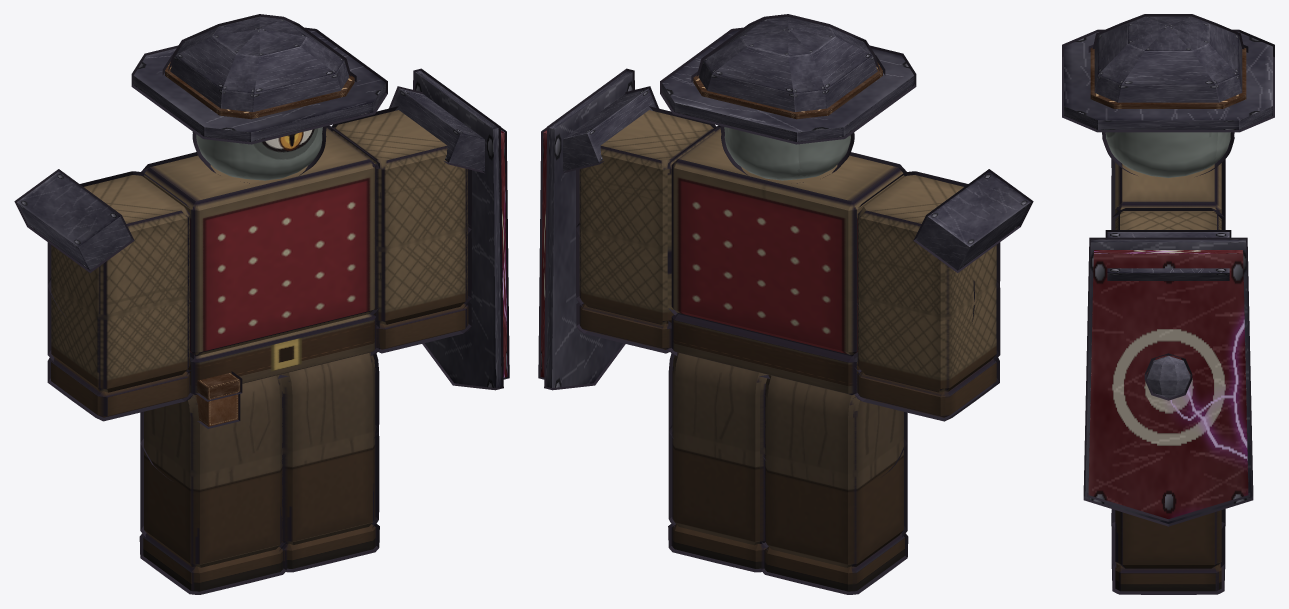
The model's file is SpearmanShield.fbx.
3 views of the same model, side by side, from view 1: azimuth 30°, elevation 25°; view 2: azimuth 150°, elevation 25°; view 3: azimuth 270°, elevation 25° (orthographic).
Visible parts, largest first — view 1: UpperTorso_Body, Head_Armor, RightLowerLeg_Body, RightUpperArm_Body, LeftUpperArm_Body, LeftLowerArm_Shield, RightLowerArm_Body, RightUpperLeg_Body, LeftLowerLeg_Body, LeftUpperLeg_Body, LeftLowerArm_Body, LowerTorso_Body (+14 smaller); view 2: UpperTorso_Body, Head_Armor, RightLowerLeg_Body, RightUpperArm_Body, LeftUpperArm_Body, LeftLowerArm_Shield, RightUpperLeg_Body, RightLowerArm_Body, LeftLowerLeg_Body, LeftUpperLeg_Body, LowerTorso_Body, LeftLowerArm_Body (+12 smaller); view 3: LeftLowerArm_Shield, Head_Armor, LeftLowerLeg_Body, Head_Body, UpperTorso_Body, LeftLowerArm_ShieldOutline, LeftFoot_Body, LeftUpperArm_Armor, LeftUpperArm_Body, Head_ArmorOutline, LeftFoot_BodyOutline, UpperTorso_BodyOutline (+3 smaller).
Part boxes in pixels (<box>): UpperTorso_Body: <box>143,128,376,356</box>; Head_Armor: <box>133,16,385,141</box>; RightLowerLeg_Body: <box>144,442,282,567</box>; RightUpperArm_Body: <box>51,175,190,319</box>; LeftUpperArm_Body: <box>332,110,468,251</box>; LeftLowerArm_Shield: <box>415,71,507,387</box>; RightLowerArm_Body: <box>51,285,190,392</box>; RightUpperLeg_Body: <box>144,375,282,476</box>; LeftLowerLeg_Body: <box>282,431,375,544</box>; LeftUpperLeg_Body: <box>280,352,375,454</box>; LeftLowerArm_Body: <box>374,229,468,324</box>; LowerTorso_Body: <box>188,313,376,394</box>; UpperTorso_Body: <box>671,128,904,356</box>; Head_Armor: <box>662,16,914,141</box>; RightLowerLeg_Body: <box>765,442,903,567</box>; RightUpperArm_Body: <box>857,175,996,319</box>; LeftUpperArm_Body: <box>579,110,715,251</box>; LeftLowerArm_Shield: <box>540,71,632,387</box>; RightUpperLeg_Body: <box>765,375,903,477</box>; RightLowerArm_Body: <box>857,285,996,392</box>; LeftLowerLeg_Body: <box>672,431,765,545</box>; LeftUpperLeg_Body: <box>672,352,767,454</box>; LowerTorso_Body: <box>671,313,859,394</box>; LeftLowerArm_Body: <box>579,229,673,324</box>; LeftLowerArm_Shield: <box>1085,239,1251,523</box>; Head_Armor: <box>1064,16,1272,129</box>; LeftLowerLeg_Body: <box>1115,510,1221,568</box>; Head_Body: <box>1105,132,1230,177</box>; UpperTorso_Body: <box>1115,163,1221,214</box>; LeftLowerArm_ShieldOutline: <box>1083,237,1253,526</box>; LeftFoot_Body: <box>1115,563,1221,591</box>; LeftUpperArm_Armor: <box>1107,232,1229,280</box>; LeftUpperArm_Body: <box>1115,211,1221,229</box>; Head_ArmorOutline: <box>1062,14,1274,132</box>; LeftFoot_BodyOutline: <box>1111,557,1225,594</box>; UpperTorso_BodyOutline: <box>1111,159,1225,229</box>.
Bounding box in the file's own units: 473 × 545 × 200.
4 materials, 3 textured.
